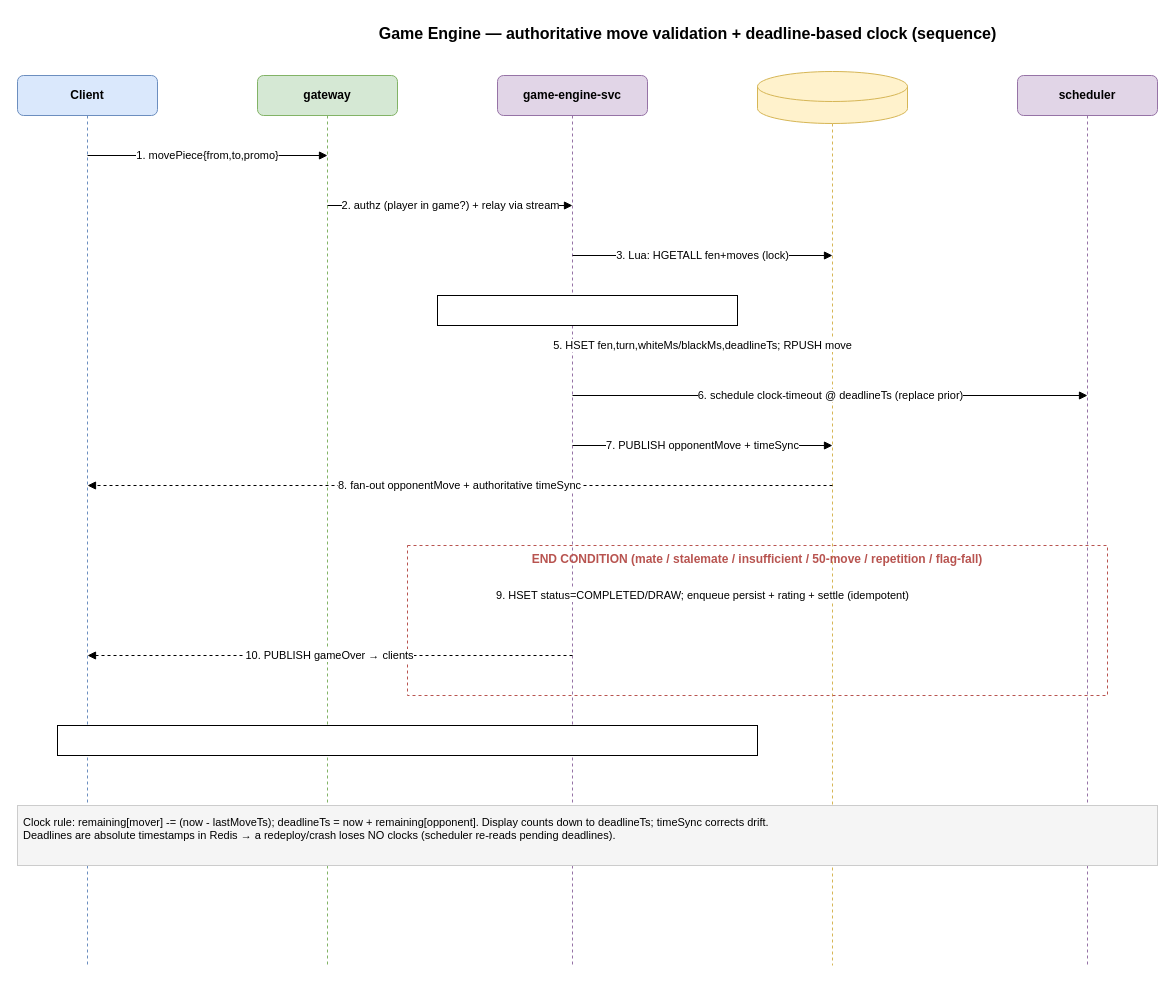
The diagram is 1175 pixels wide and 984 high, and some of its shapes have lost their labels. The centre of each missing label's shape, as x and y in pixels:
4. chess.js: legal? whose turn? deduct clock: point (587, 310)
ALT: illegal / not your turn → PUBLISH moveRejected → client rolls back: point (407, 740)
Redis (game:{id}): point (832, 97)
